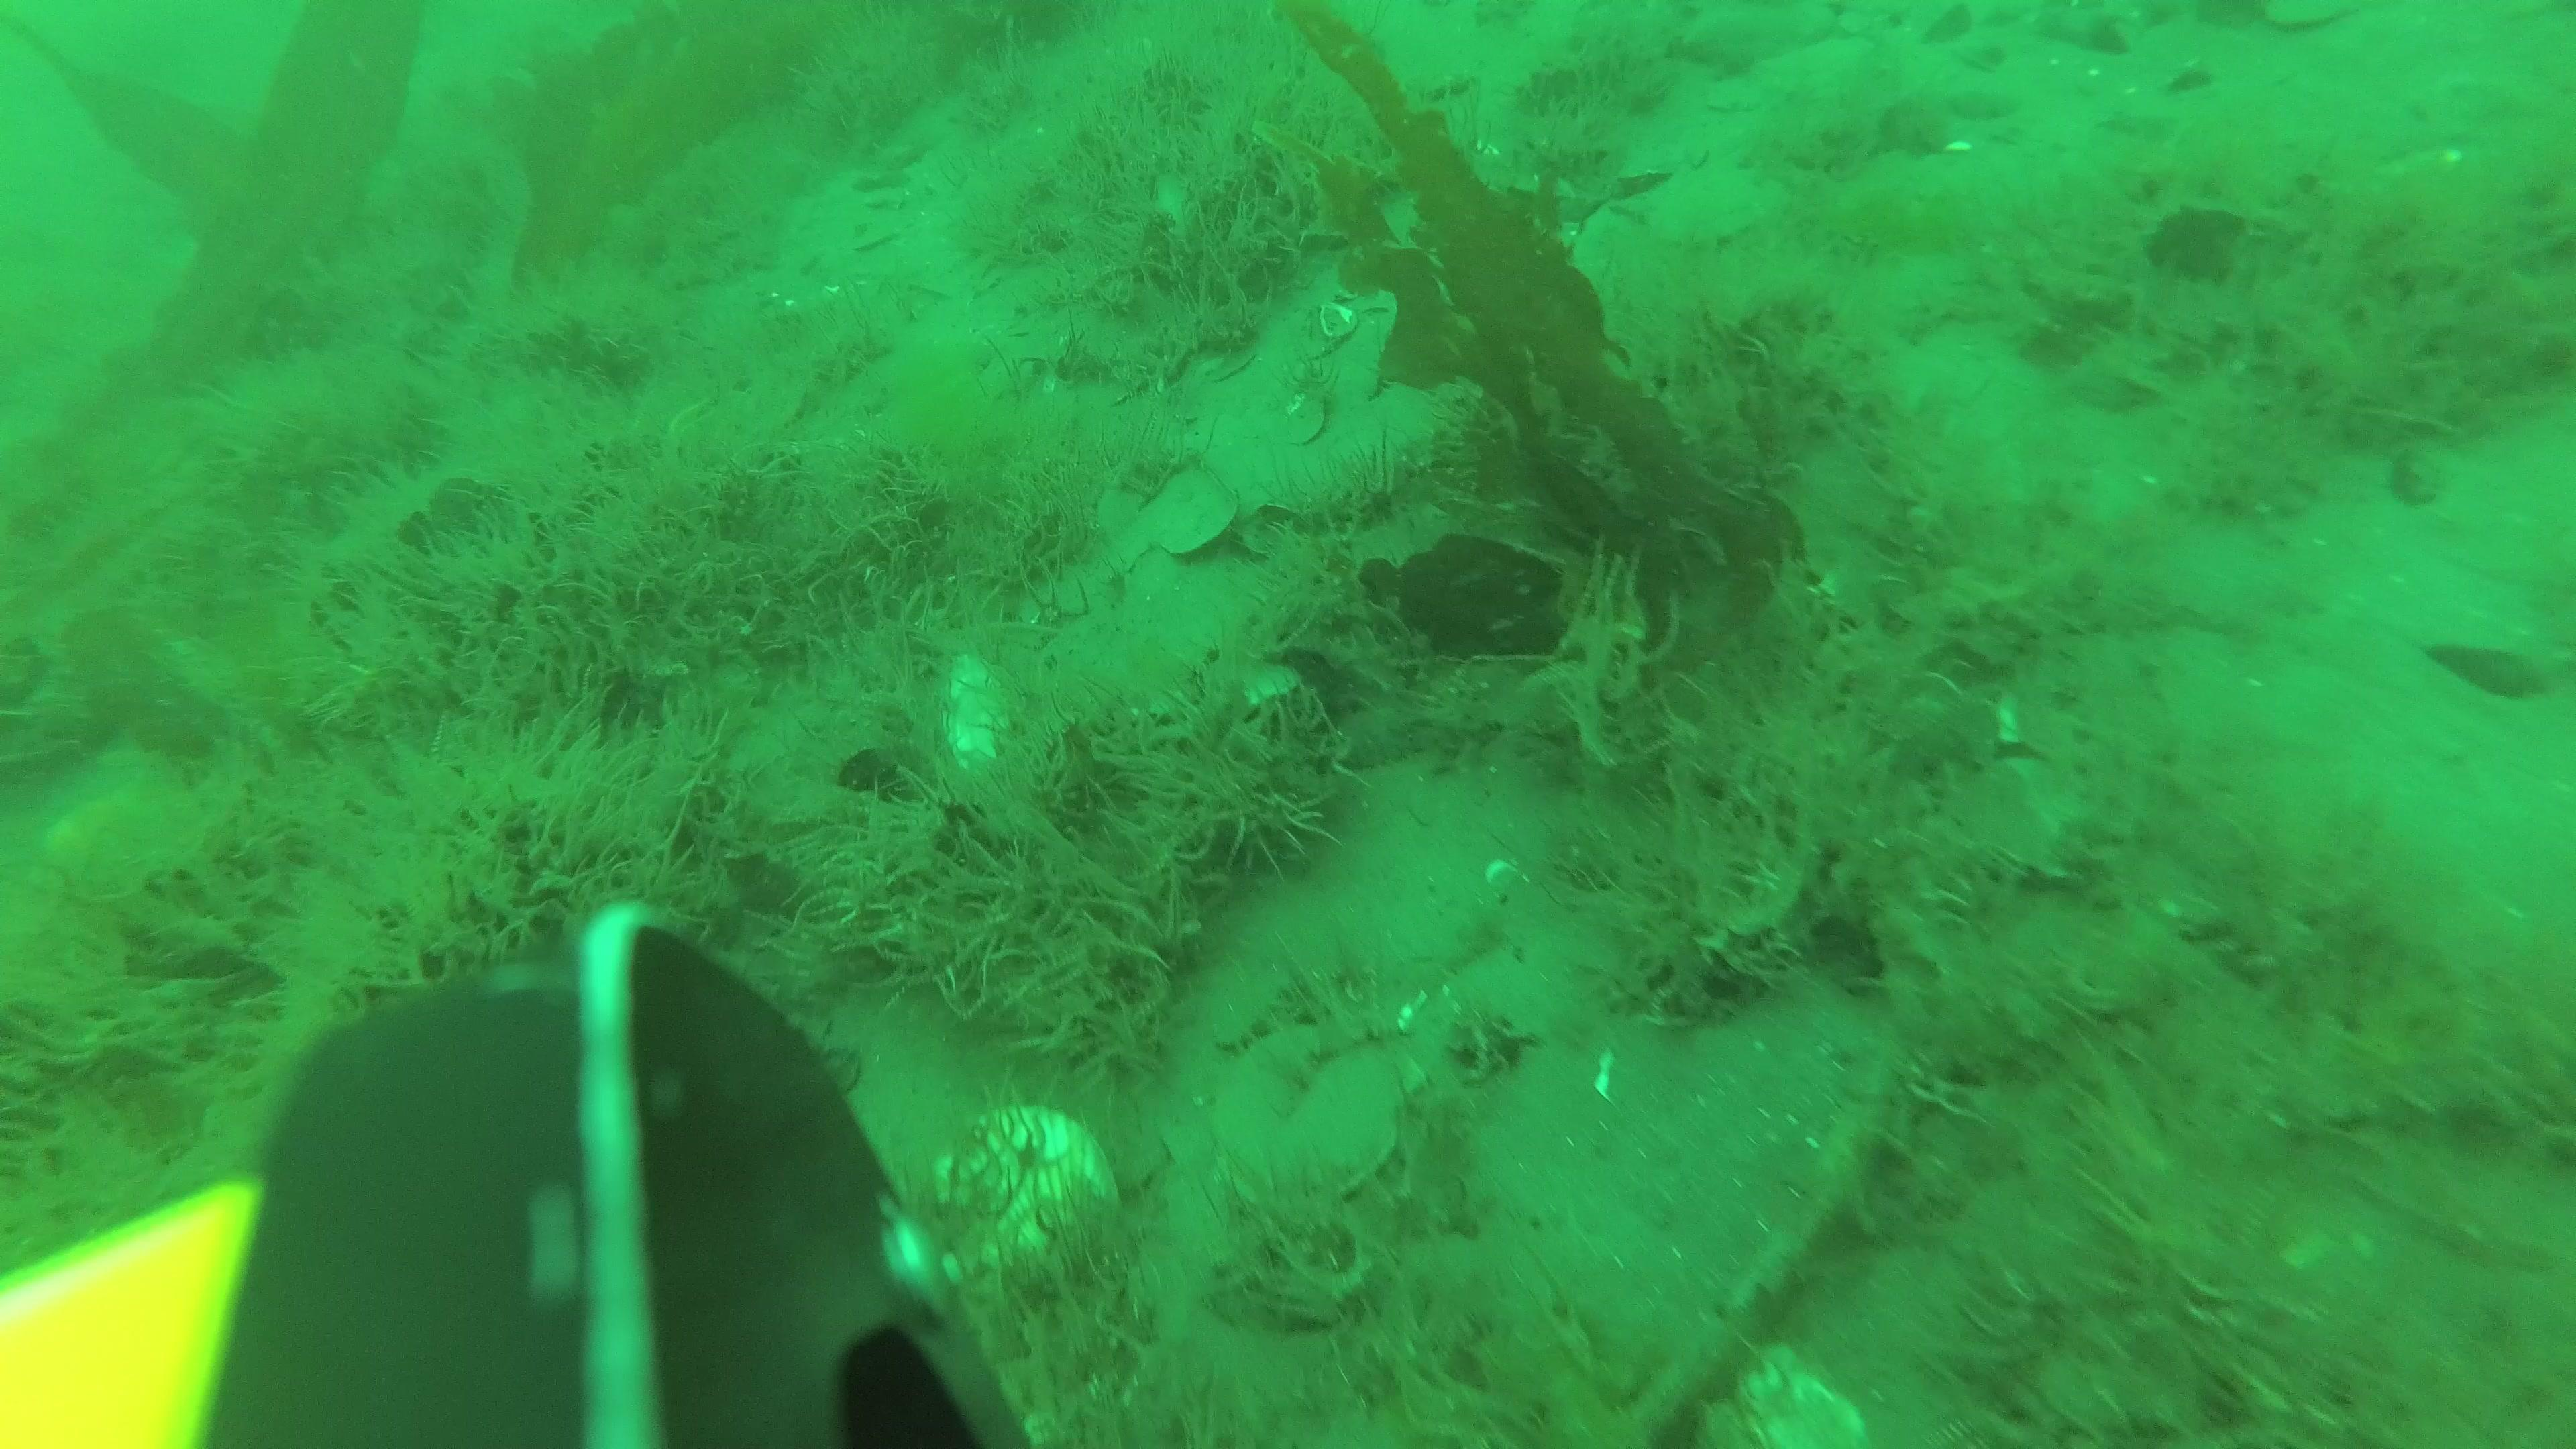scallop: (1212, 1024, 1421, 1201), (932, 1111, 1122, 1295), (1725, 1330, 1874, 1449), (943, 642, 1026, 773)
